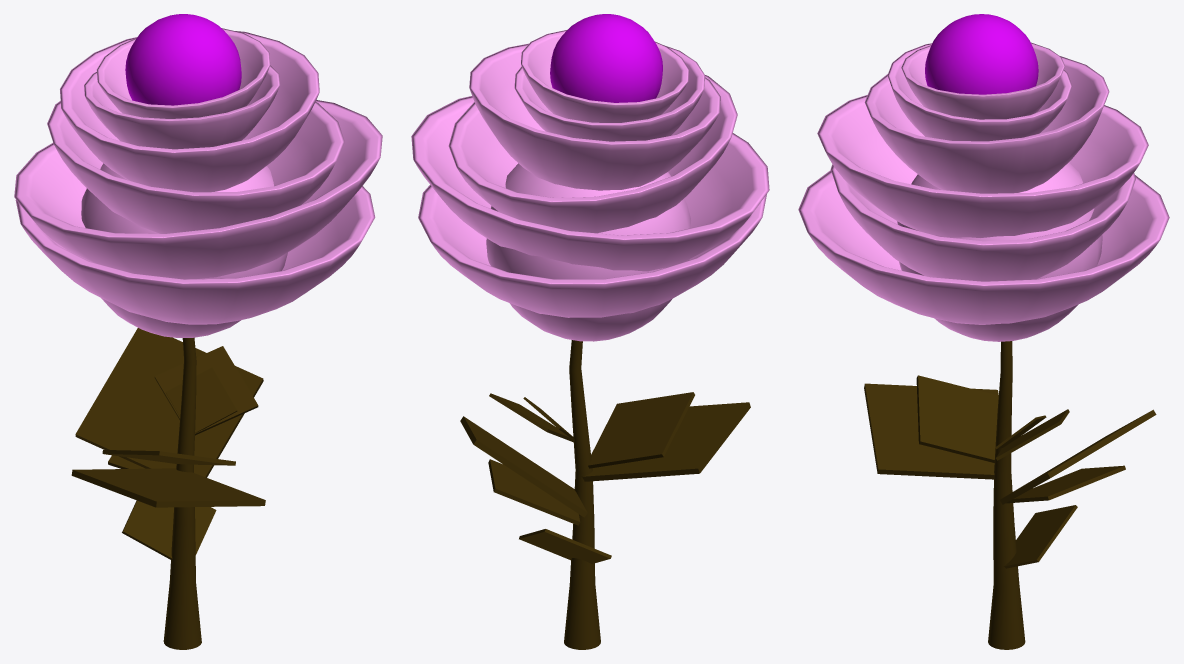
File: flowerOBJ.obj
The picture shows the model from 3 angles, left to right: view 1: azimuth 30°, elevation 25°; view 2: azimuth 150°, elevation 25°; view 3: azimuth 270°, elevation 25°; orthographic projection. The views are drawn at different scales.
Parts seen in each view (by area): view 1: pSphere5, pSphere3, pSphere7, pSphere6, group6 pCube7, pSphere12, pSphere9, pCylinder3, pSphere10, group6 pCube5, pSphere11, pCube2 (+3 smaller); view 2: pSphere5, pSphere7, pSphere3, pSphere6, pSphere11, pSphere12, pCylinder3, pSphere10, group6 pCube5, group6 pCube6, pSphere9, group6 pCube7 (+3 smaller); view 3: pSphere6, pSphere3, pSphere7, pSphere5, pSphere12, group6 pCube5, pCylinder3, group6 pCube6, pSphere10, pSphere9, pSphere11, pCube2 (+3 smaller).
Boxes of the visible parts, x1,y1,x2,y2 form: pSphere5: (14, 100, 382, 279); pSphere3: (15, 186, 375, 324); pSphere7: (60, 31, 319, 192); pSphere6: (47, 101, 344, 233); group6 pCube7: (75, 328, 263, 477); pSphere12: (125, 14, 241, 105); pSphere9: (84, 65, 280, 149); pCylinder3: (163, 337, 201, 649); pSphere10: (96, 28, 270, 118); group6 pCube5: (71, 468, 265, 507); pSphere11: (81, 163, 287, 337); pCube2: (122, 500, 216, 560); pSphere5: (411, 96, 769, 271); pSphere7: (469, 43, 720, 190); pSphere3: (418, 185, 766, 317); pSphere6: (448, 75, 737, 233); pSphere11: (486, 163, 690, 341); pSphere12: (550, 14, 662, 102); pCylinder3: (564, 340, 600, 649); pSphere10: (521, 29, 689, 122); group6 pCube5: (581, 402, 750, 481); group6 pCube6: (588, 392, 694, 468); pSphere9: (514, 46, 705, 141); group6 pCube7: (460, 416, 587, 517); pSphere6: (817, 95, 1148, 237); pSphere3: (798, 170, 1169, 324); pSphere7: (864, 56, 1109, 193); pSphere5: (830, 164, 1135, 281); pSphere12: (925, 14, 1038, 94); group6 pCube5: (864, 383, 998, 479); pCylinder3: (988, 341, 1025, 649); group6 pCube6: (916, 375, 998, 462); pSphere10: (901, 42, 1064, 119); pSphere9: (887, 43, 1072, 141); pSphere11: (897, 162, 1102, 341); pCube2: (1004, 505, 1077, 568).
Size of the model in its own units: 7.33 by 13.21 by 7.21.
